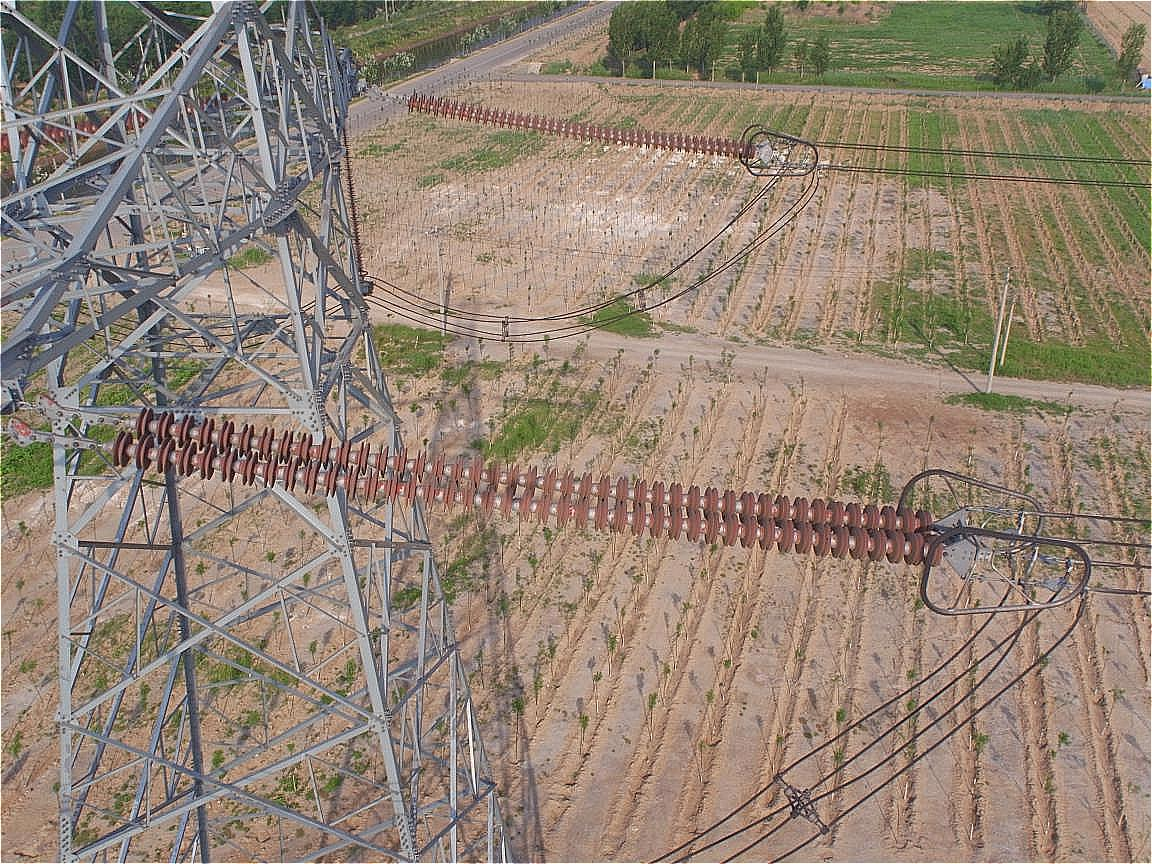insultor2: (96, 391, 970, 600), (402, 78, 779, 169)
